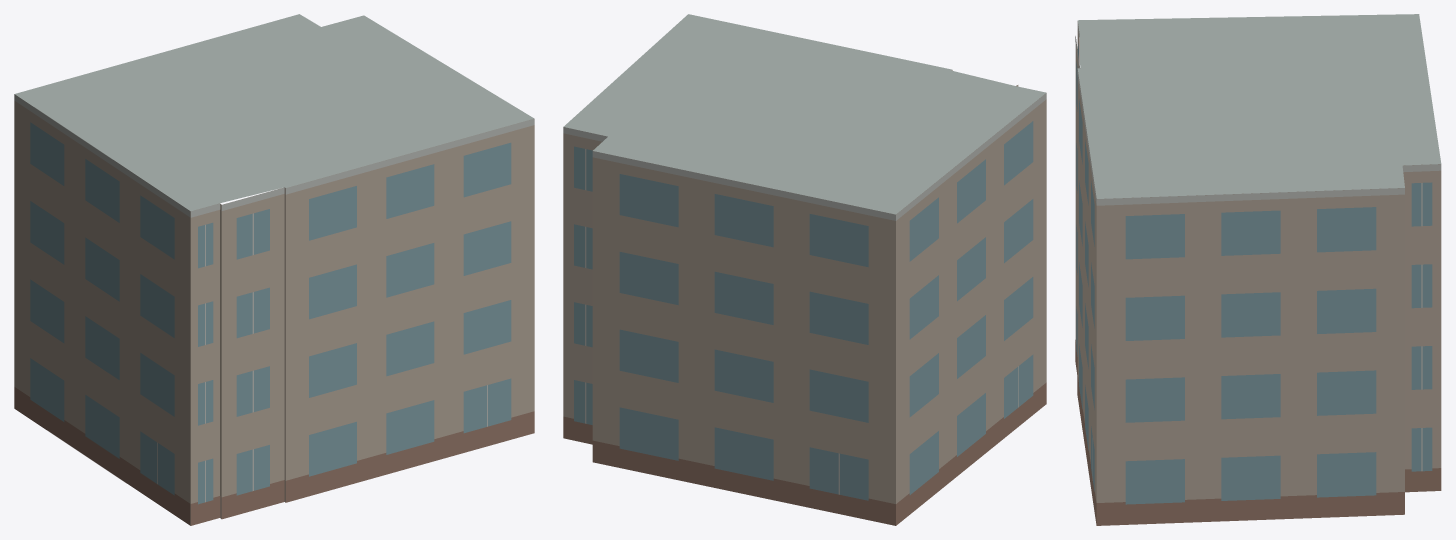
File: survey-upis-32802257.glb
The picture shows the model from 3 angles, left to right: view 1: azimuth 30°, elevation 25°; view 2: azimuth 150°, elevation 25°; view 3: azimuth 270°, elevation 25°; orthographic projection. The views are drawn at different scales.
Parts seen in each view (by area): view 1: survey-upis-32802257.tmp; view 2: survey-upis-32802257.tmp; view 3: survey-upis-32802257.tmp.
Part boxes in pixels (box(x1,y1,x2,y2)): survey-upis-32802257.tmp: box(14, 14, 534, 525); survey-upis-32802257.tmp: box(563, 14, 1046, 525); survey-upis-32802257.tmp: box(1075, 14, 1441, 525).
Size of the model in its own units: 14.4 by 11.85 by 12.03.
